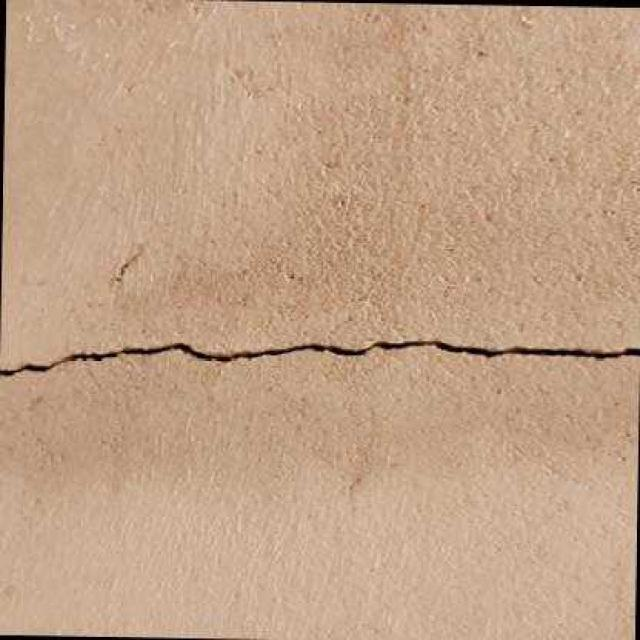D00: (0, 337, 640, 373)
